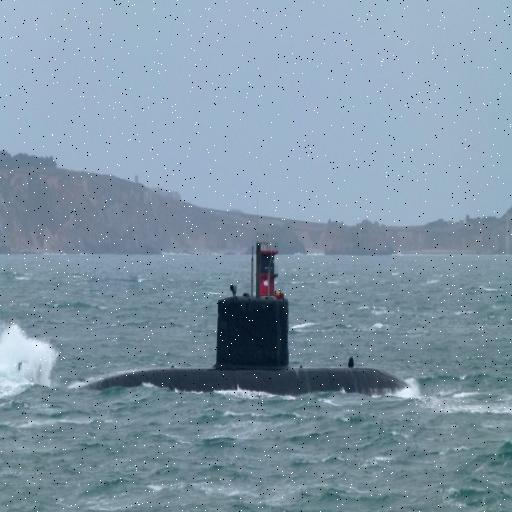submarine: (85, 235, 421, 390)
